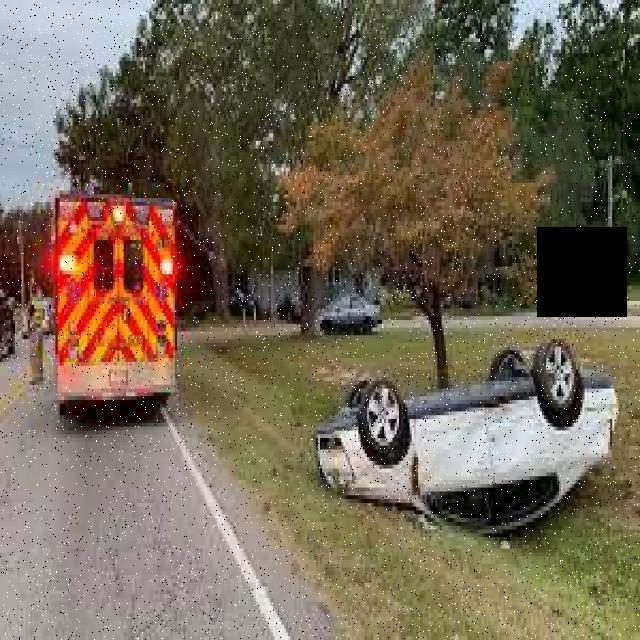severe: (310, 334, 624, 550)
